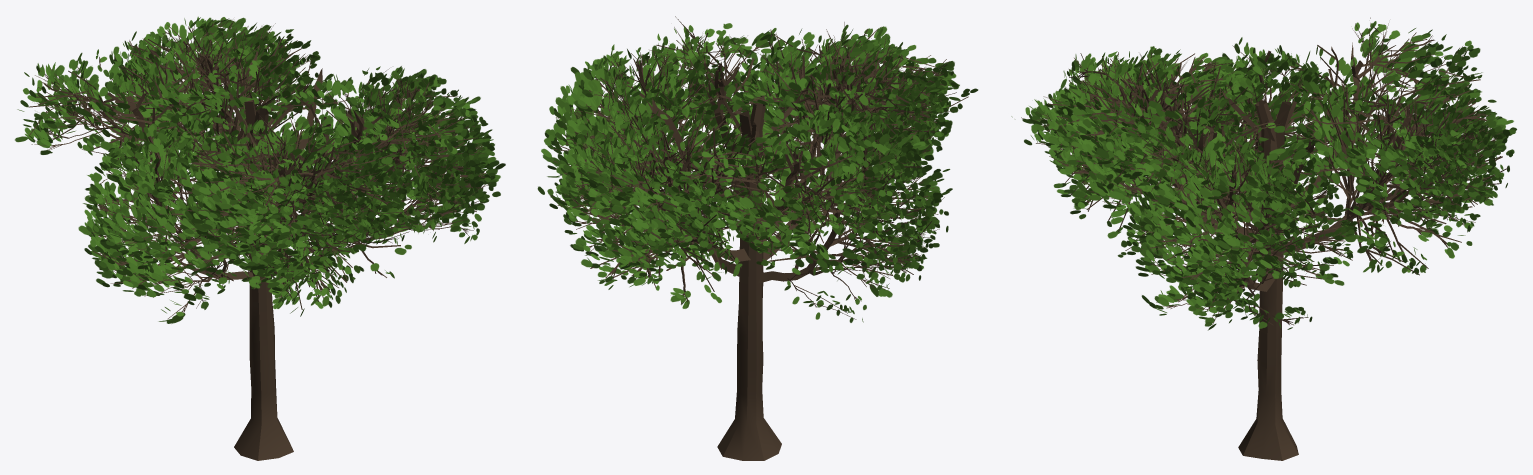
3 views of the same model, side by side, from view 1: azimuth 30°, elevation 25°; view 2: azimuth 150°, elevation 25°; view 3: azimuth 270°, elevation 25° (orthographic).
Parts seen in each view (by area): view 1: oak 01.001_trunk_Mat.001_0.138; view 2: oak 01.001_trunk_Mat.001_0.138; view 3: oak 01.001_trunk_Mat.001_0.138.
Boxes of the visible parts, x1,y1,x2,y2 form: oak 01.001_trunk_Mat.001_0.138: [15, 16, 505, 460]; oak 01.001_trunk_Mat.001_0.138: [537, 16, 978, 460]; oak 01.001_trunk_Mat.001_0.138: [1011, 17, 1516, 460].
Size of the model in its own units: 5.34 by 4.44 by 5.66.
Materials: 2 (1 with a texture image).
